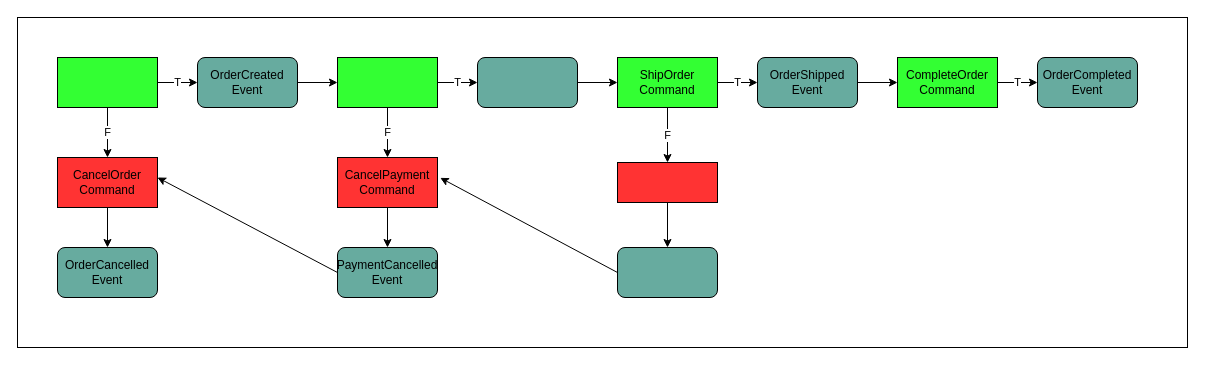
Some shapes in this 1205 by 365 pixel diagram are drawn without their labels. The shapes that lost their labels are listed below. From the top down, each one's box as (x1, y1, x2, y2) in pixels, then its label:
(56, 56, 158, 108): CreateOrder Command
(336, 56, 438, 108): ValidatePayment Command
(476, 56, 578, 108): PaymentValidated Event
(616, 162, 718, 202): CancelShipment Command
(616, 246, 718, 298): ShipmentCancelled Event
